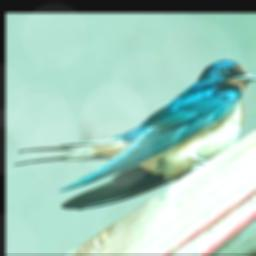Swallow: (12, 57, 256, 210)
